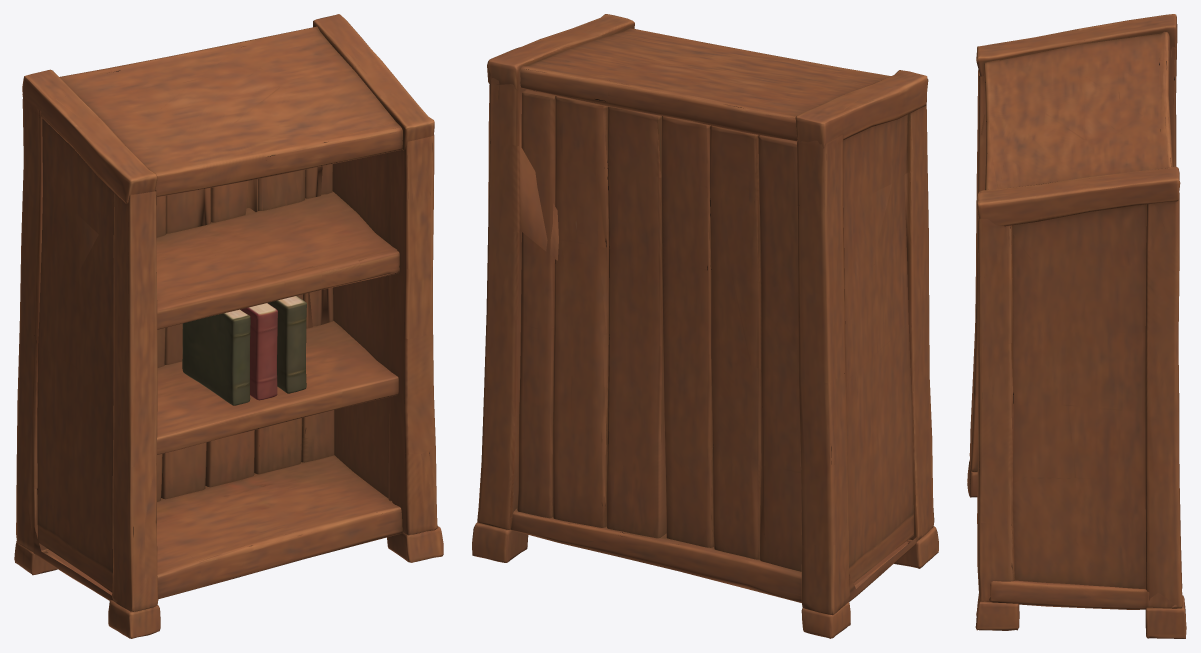
Rendered from sumicio_estanteria_despacho.glb.
3 renders of one model, left to right at view 1: azimuth 30°, elevation 25°; view 2: azimuth 150°, elevation 25°; view 3: azimuth 270°, elevation 25°, orthographic. The views are drawn at different scales.
Parts seen in each view (by area): view 1: geometry_0; view 2: geometry_0; view 3: geometry_0.
Boxes of the visible parts, box(x1,y1,x2,y2) form: geometry_0: box(14, 14, 443, 638); geometry_0: box(472, 14, 938, 638); geometry_0: box(967, 14, 1186, 638).
Size of the model in its own units: 0.7275 by 1 by 0.4228.
1 material, 1 textured.
